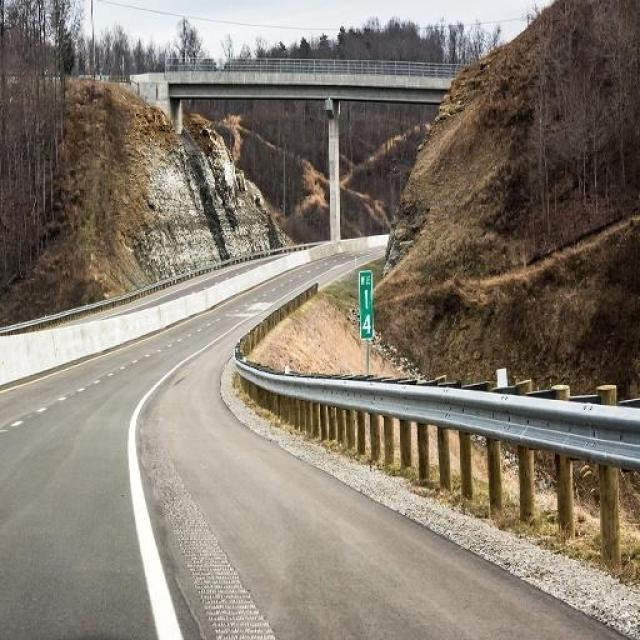Guard rail: (226, 346, 640, 587)
